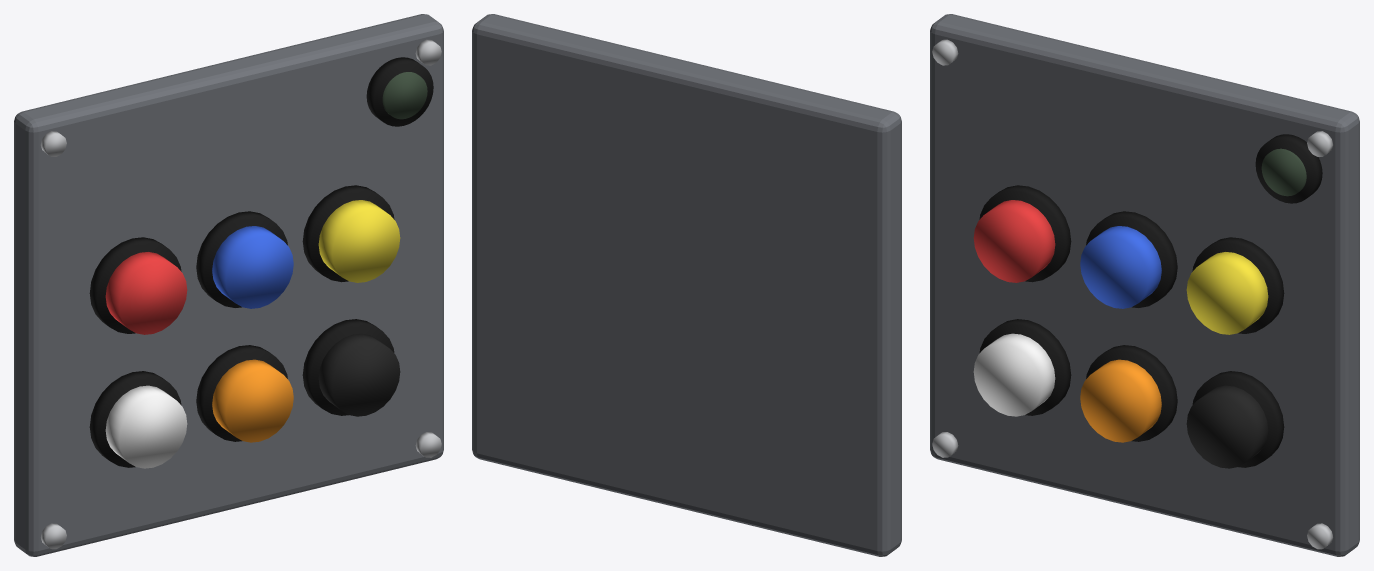
The model's file is buttons.glb.
The picture shows the model from 3 angles, left to right: view 1: azimuth 30°, elevation 25°; view 2: azimuth 150°, elevation 25°; view 3: azimuth 330°, elevation 25°; orthographic projection.
Parts seen in each view (by area): view 1: buttons_Plate, buttons_Cap01, buttons_Cap12, buttons_Cap00, buttons_Cap02, buttons_Cap10, buttons_Cap11, buttons_Ring11, buttons_Ring01, buttons_Ring10, buttons_Ring12, buttons_Ring02 (+6 smaller); view 2: buttons_Plate; view 3: buttons_Plate, buttons_Cap01, buttons_Cap10, buttons_Cap02, buttons_Cap00, buttons_Cap12, buttons_Cap11, buttons_Ring11, buttons_Ring01, buttons_Ring12, buttons_Ring10, buttons_Ring00 (+6 smaller).
Part boxes in pixels (box(x1,y1,x2,y2)): buttons_Plate: box(14, 14, 443, 556); buttons_Cap01: box(212, 226, 293, 308); buttons_Cap12: box(318, 333, 400, 416); buttons_Cap00: box(105, 252, 187, 334); buttons_Cap02: box(318, 200, 400, 282); buttons_Cap10: box(105, 385, 187, 468); buttons_Cap11: box(212, 359, 293, 442); buttons_Ring11: box(196, 345, 287, 441); buttons_Ring01: box(196, 211, 287, 307); buttons_Ring10: box(89, 371, 181, 467); buttons_Ring12: box(302, 319, 394, 415); buttons_Ring02: box(302, 185, 394, 282); buttons_Plate: box(472, 14, 901, 556); buttons_Plate: box(930, 14, 1359, 556); buttons_Cap01: box(1080, 226, 1161, 308); buttons_Cap10: box(973, 333, 1055, 416); buttons_Cap02: box(1186, 252, 1268, 334); buttons_Cap00: box(973, 200, 1055, 282); buttons_Cap12: box(1186, 385, 1268, 468); buttons_Cap11: box(1080, 359, 1161, 442); buttons_Ring11: box(1086, 345, 1177, 441); buttons_Ring01: box(1086, 211, 1177, 307); buttons_Ring12: box(1192, 371, 1284, 467); buttons_Ring10: box(979, 319, 1071, 415); buttons_Ring00: box(979, 185, 1071, 282).
Size of the model in its own units: 0.98 by 0.98 by 0.165.
